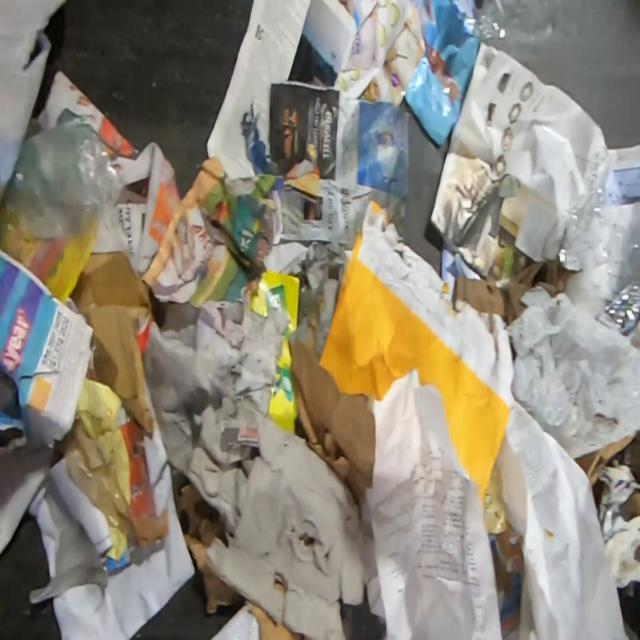cardboard: (142, 322, 379, 640), (314, 197, 516, 507), (169, 298, 289, 466), (69, 209, 155, 437), (175, 483, 241, 615), (452, 257, 576, 327), (573, 436, 636, 488), (246, 599, 305, 640)
soft_plastic: (507, 265, 639, 460), (0, 118, 126, 243), (542, 148, 640, 294), (405, 0, 482, 148), (595, 279, 639, 336), (472, 0, 508, 43)
